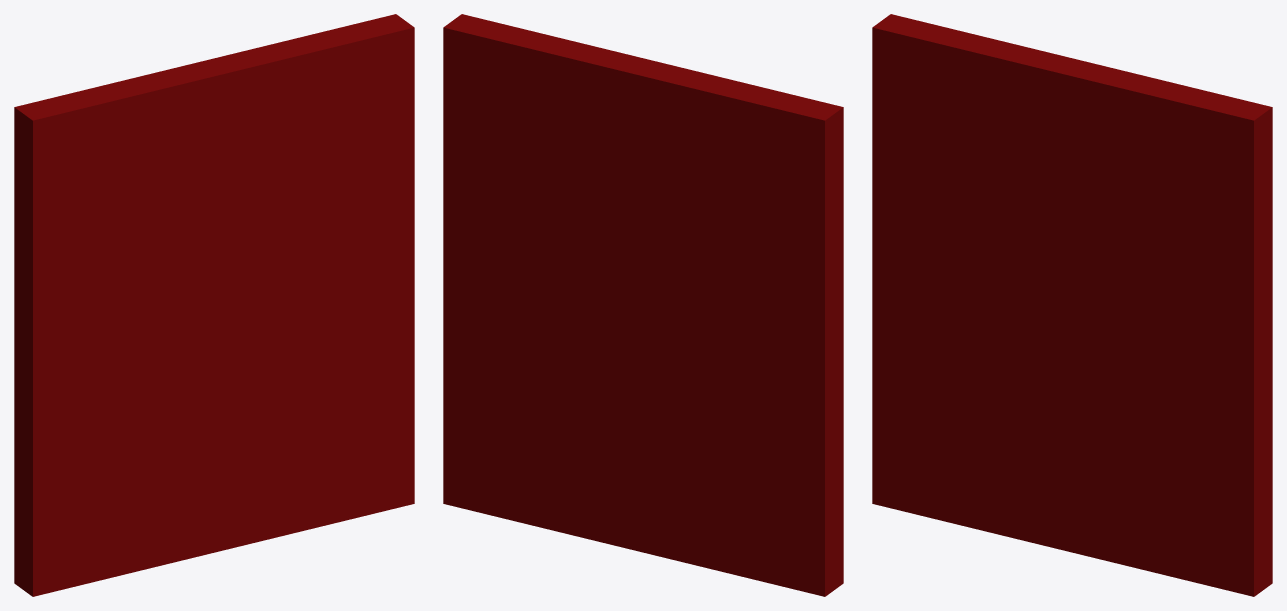
File: door_red.glb
The picture shows the model from 3 angles, left to right: view 1: azimuth 30°, elevation 25°; view 2: azimuth 150°, elevation 25°; view 3: azimuth 330°, elevation 25°; orthographic projection.
Visible parts, largest first — view 1: door_red; view 2: door_red; view 3: door_red.
Part boxes in pixels (x1,y1,x2,y2): door_red: [14, 14, 414, 596]; door_red: [443, 14, 843, 596]; door_red: [872, 14, 1272, 596].
Size of the model in its own units: 2.38 by 2.84 by 0.2.
Materials: 1 (1 with a texture image).
